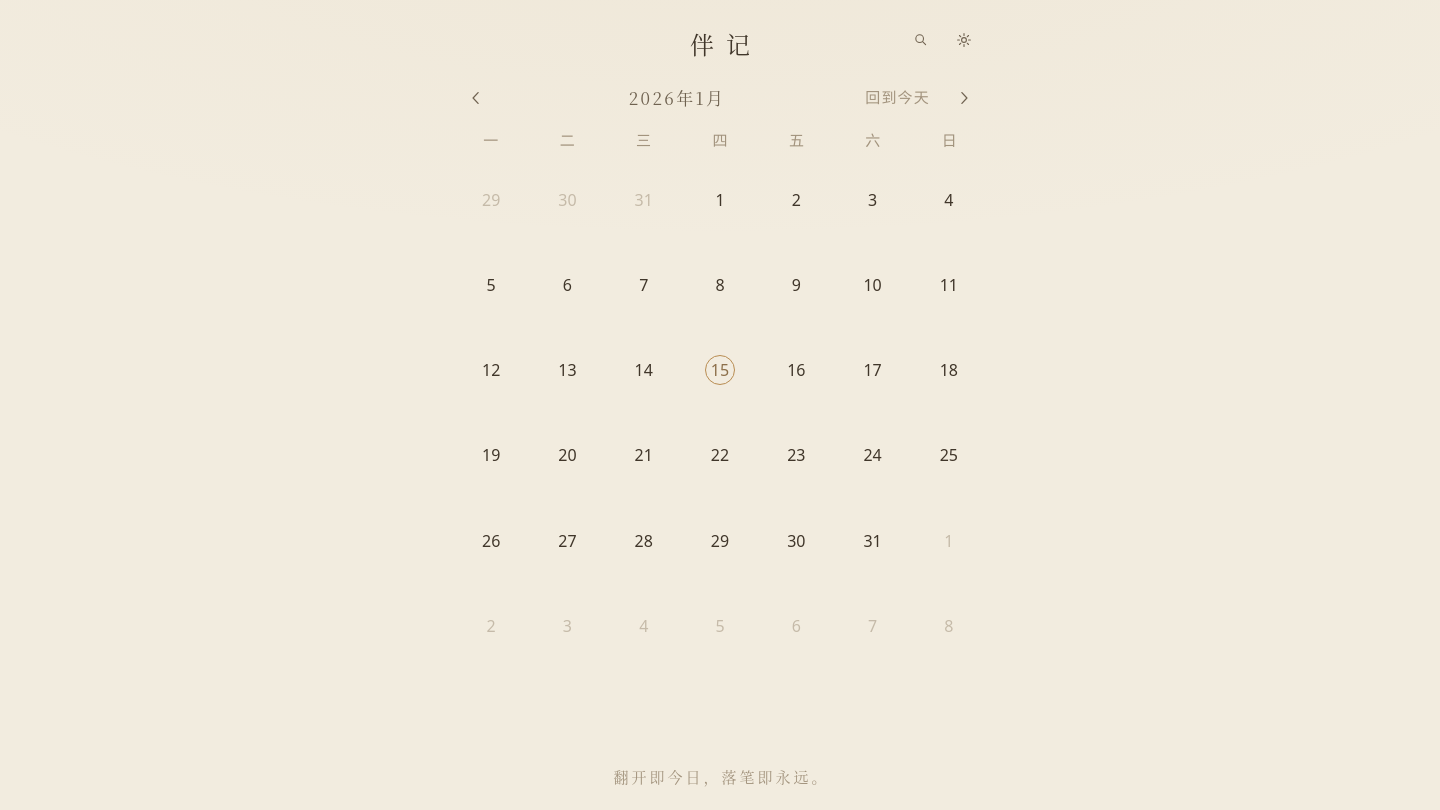
设置抽屉 › 导出备份：exportToFile → Object URL → 安静回执
Click the button named "设置" at (964, 40), box [942,18,986,62]
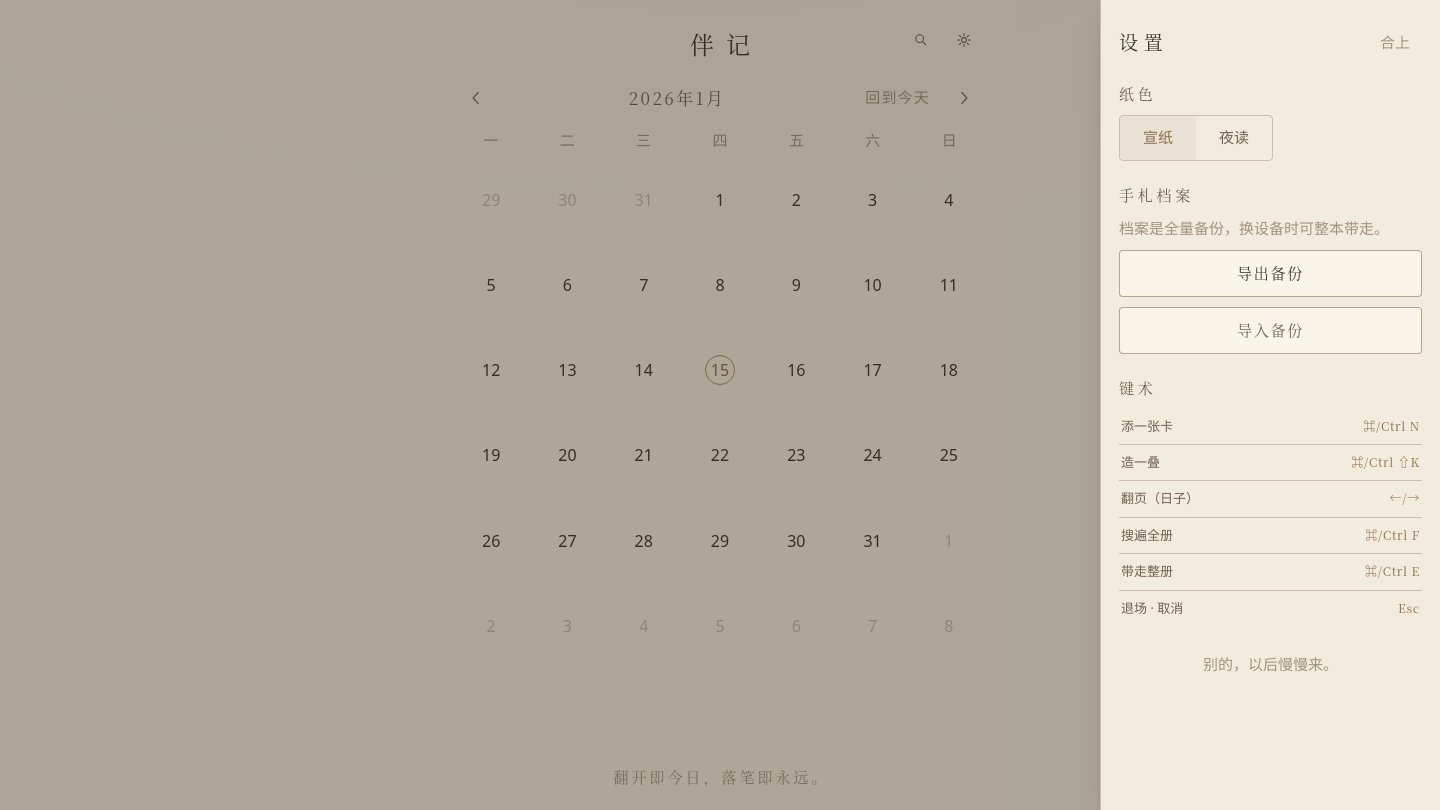
Click the button "导出备份" at (1270, 274), box [1119,250,1422,297]
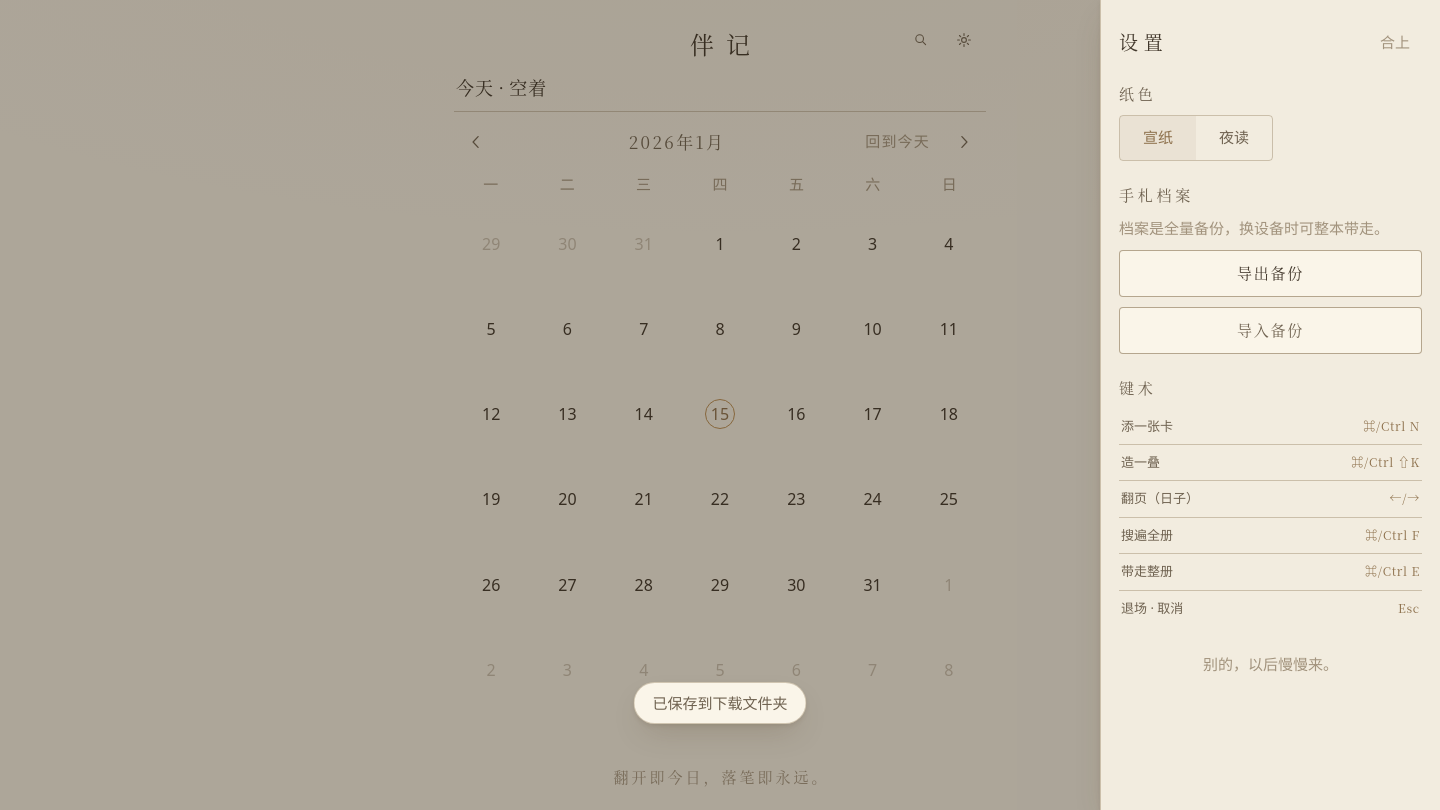
Now the text "已保存到下载文件夹" is shown, box [652,692,788,714]
